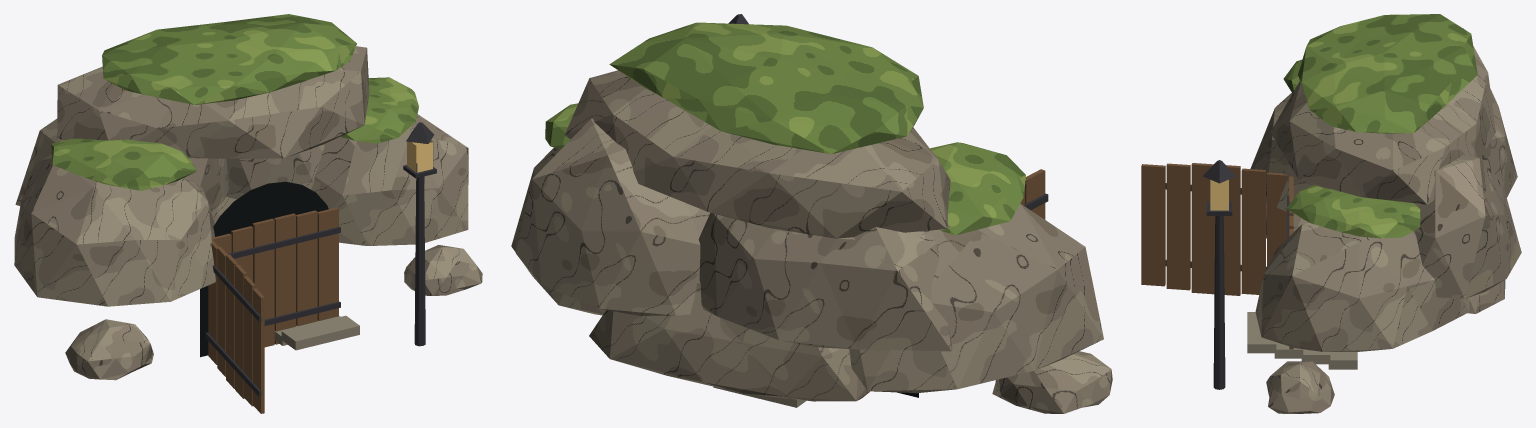
Rendered from pools.glb.
3 renders of one model, left to right at view 1: azimuth 30°, elevation 25°; view 2: azimuth 150°, elevation 25°; view 3: azimuth 270°, elevation 25°, orthographic. The views are drawn at different scales.
Parts seen in each view (by area): view 1: body, shutters, shutters-open, glass; view 2: body, shutters-open; view 3: body, shutters-open, glass.
Boxes of the visible parts, box(x1,y1,x2,y2) form: body: box(14, 14, 482, 380); shutters: box(212, 207, 340, 347); shutters-open: box(205, 240, 264, 413); glass: box(407, 139, 433, 172); body: box(511, 14, 1112, 413); shutters-open: box(1020, 169, 1048, 219); body: box(1203, 14, 1521, 413); shutters-open: box(1141, 163, 1288, 295); glass: box(1210, 179, 1228, 210).
Bounding box in the file's own units: 6 × 3.71 × 4.49.
7 materials, 2 textured.
